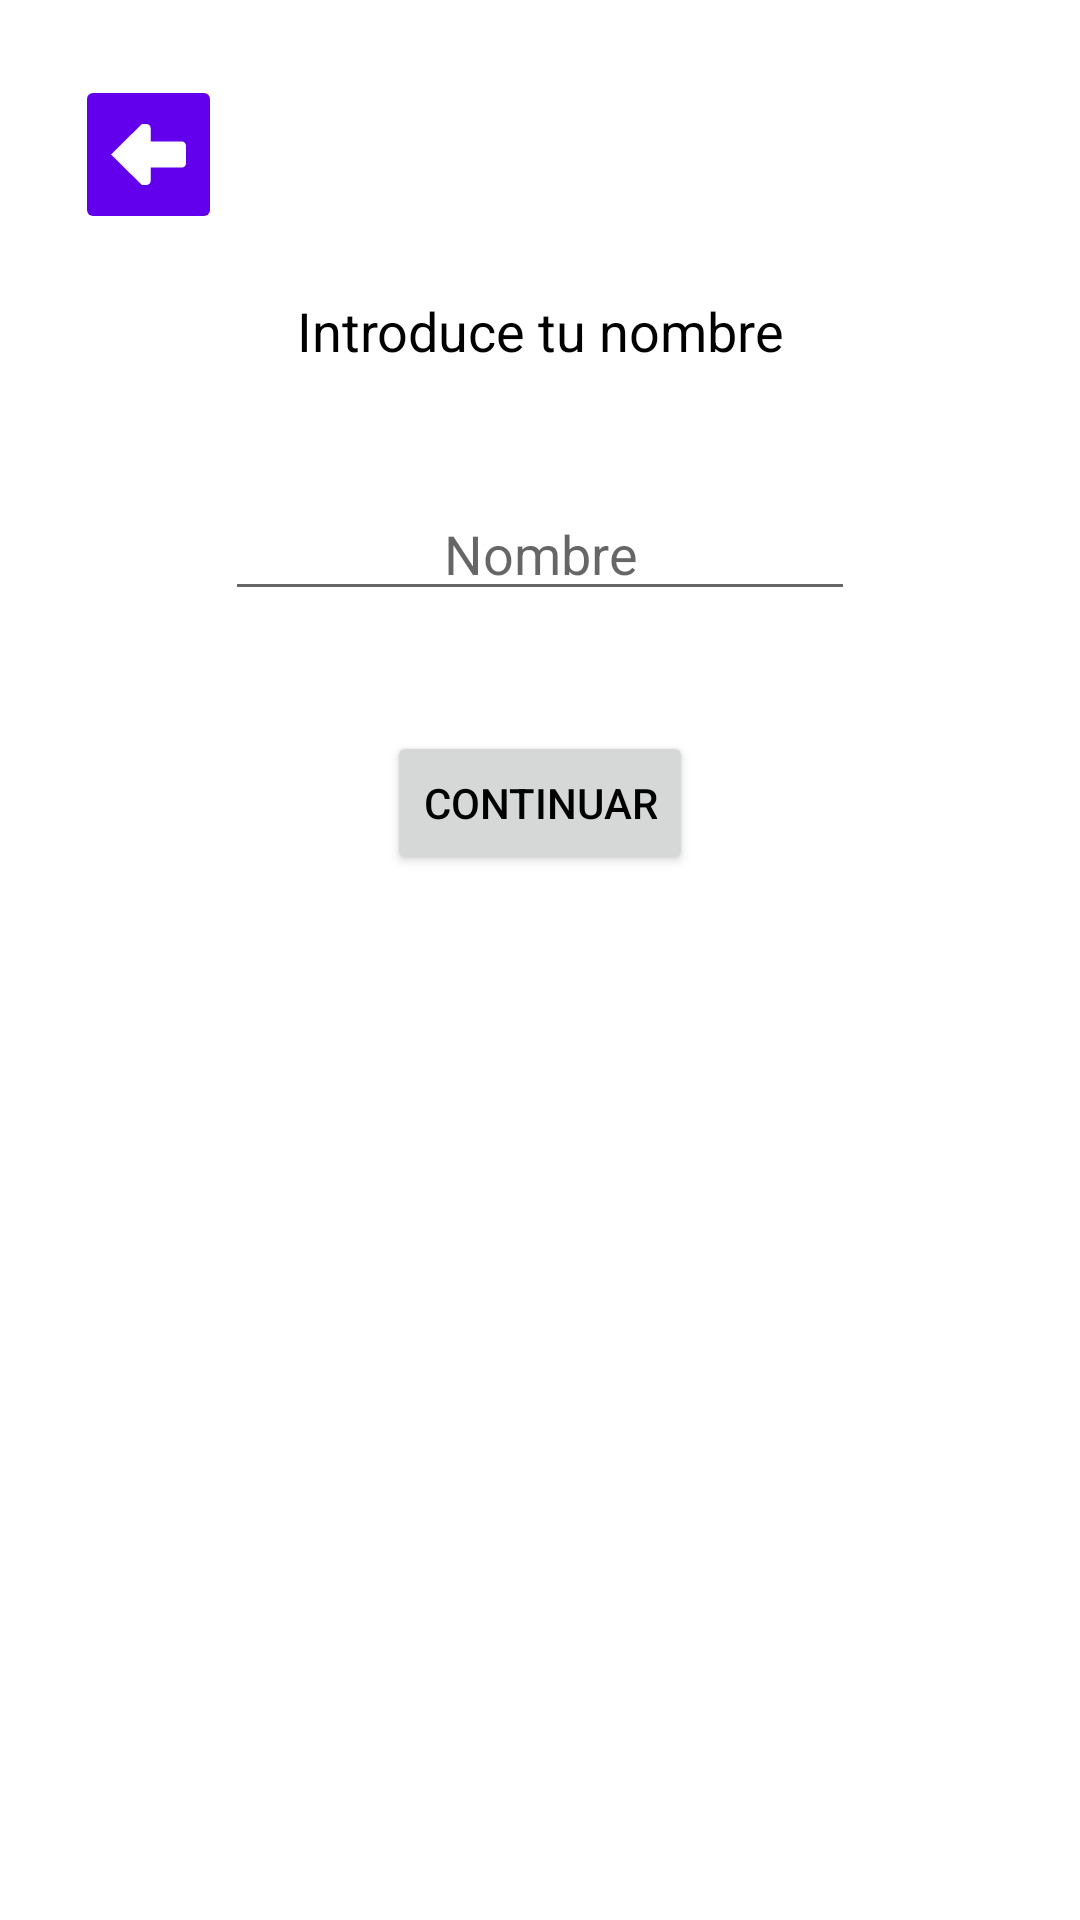

Icon click points for this 1080px×1920px phone screenshot, format (x,y):
resource return: (148,154)
